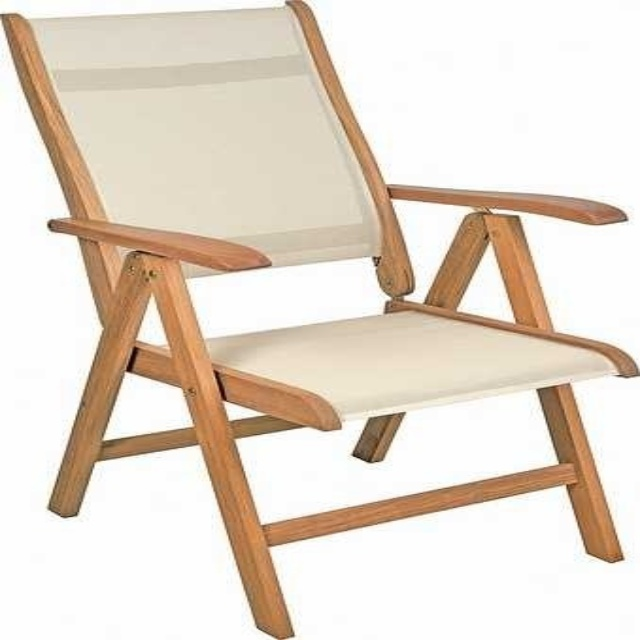obstacle: (2, 44, 270, 639), (306, 0, 636, 353), (272, 378, 636, 639), (189, 260, 385, 335)
